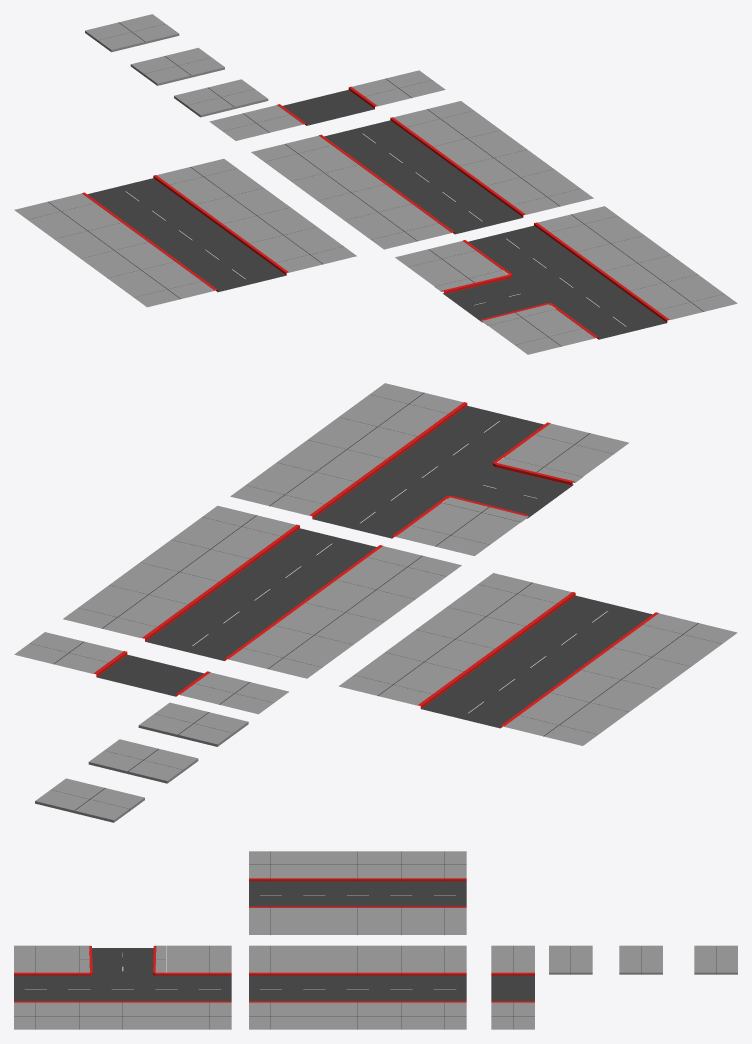
File: road and path_modular.fbx
3 views of the same model, one above another, from view 1: azimuth 30°, elevation 25°; view 2: azimuth 150°, elevation 25°; view 3: azimuth 270°, elevation 25° (orthographic). The views are drawn at different scales.
Visible parts, largest first — view 1: Plane.003, Plane.006, Plane.002, Plane, Plane.005, Plane.001, Plane.004; view 2: Plane.003, Plane.002, Plane.006, Plane, Plane.001, Plane.004, Plane.005; view 3: Plane.002, Plane.003, Plane.006, Plane, Plane.001, Plane.004, Plane.005.
Boxes of the visible parts, left/top/right/bottom form: Plane.003: left=395, top=206, right=737, bottom=354; Plane.006: left=14, top=158, right=356, bottom=307; Plane.002: left=251, top=101, right=593, bottom=249; Plane: left=209, top=70, right=445, bottom=140; Plane.005: left=85, top=14, right=179, bottom=52; Plane.001: left=174, top=79, right=268, bottom=117; Plane.004: left=130, top=47, right=224, bottom=85; Plane.003: left=230, top=383, right=629, bottom=555; Plane.002: left=63, top=505, right=461, bottom=678; Plane.006: left=338, top=573, right=737, bottom=745; Plane: left=14, top=632, right=288, bottom=714; Plane.001: left=138, top=702, right=248, bottom=746; Plane.004: left=88, top=739, right=198, bottom=783; Plane.005: left=35, top=778, right=144, bottom=822; Plane.002: left=249, top=945, right=466, bottom=1029; Plane.003: left=14, top=945, right=231, bottom=1029; Plane.006: left=249, top=851, right=466, bottom=934; Plane: left=491, top=945, right=534, bottom=1029; Plane.001: left=549, top=945, right=592, bottom=974; Plane.004: left=619, top=945, right=662, bottom=974; Plane.005: left=694, top=945, right=737, bottom=974.
Size of the model in its own units: 4930 by 27.24 by 8463.
